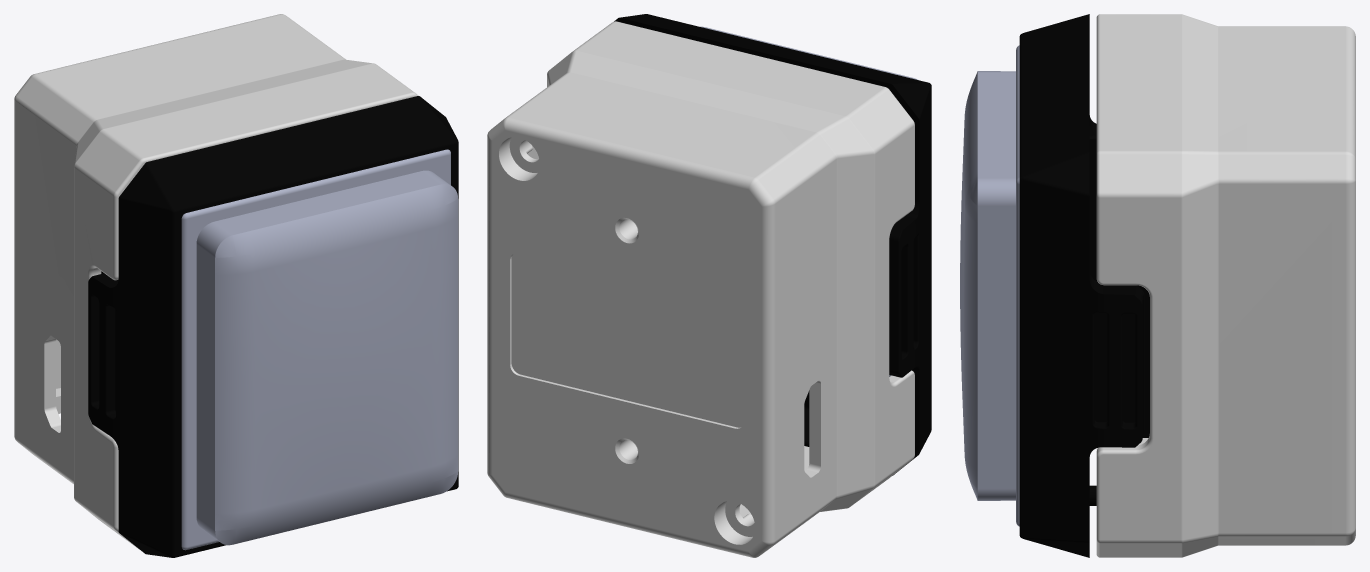
File: gelsight_mini.obj
3 renders of one model, left to right at view 1: azimuth 30°, elevation 25°; view 2: azimuth 150°, elevation 25°; view 3: azimuth 270°, elevation 25°, orthographic. The views are drawn at different scales.
Parts seen in each view (by area): view 1: Gel_Gel.001, Base, GelBase; view 2: Base, GelBase; view 3: Base, GelBase, Gel_Gel.001.
Boxes of the visible parts, x1,y1,x2,y2 form: Gel_Gel.001: (181,149,458,550); Base: (14,14,418,549); GelBase: (88,96,458,557); Base: (487,21,914,557); GelBase: (614,14,931,475); Base: (1096,14,1355,557); GelBase: (1019,14,1149,557); Gel_Gel.001: (960,45,1019,526).
Bounding box in the file's own units: 0.0289 × 0.032 × 0.0283.
